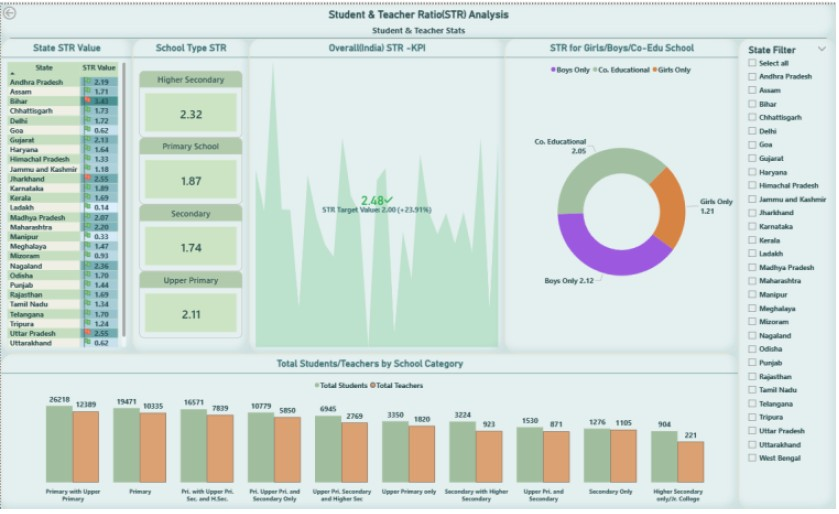

The dashboard page shown, as its layout file describes it:
{"tool":"powerbi","page":{"name":"Teacher & Student Ratio Analysis","canvas":[1900,1150],"ordinal":2},"visuals":[{"type":"kpi","title":"Overall(India) STR -KPI","fields":{"TrendLine":["Education_School_DataSet.State"],"Indicator":["Education_School_DataSet.Student Teacher Ratio"],"Goal":["Education_School_DataSet.STR Target"]},"box":[565,76.7,581.7,718.3],"z":0},{"type":"actionButton","box":[0,0,100,40],"z":1000},{"type":"cardVisual","title":"School Type STR","fields":{"Data":["Education_School_DataSet.Student Teacher Ratio"],"Rows":["Education_School_DataSet.School Type "]},"box":[300,76.7,265,718.3],"z":2000},{"type":"donutChart","title":"STR for Girls/Boys/Co-Edu School","fields":{"Category":["Education_School_DataSet.School Type"],"Y":["Education_School_DataSet.Student Teacher Ratio"]},"box":[1146.7,76.7,531.7,718.3],"z":3000},{"type":"pivotTable","title":"State STR Value","fields":{"Values":["Education_School_DataSet.Student Teacher Ratio"],"Rows":["Education_School_DataSet.State"]},"box":[0,76.7,300,718.3],"z":4000},{"type":"clusteredColumnChart","title":"Total Students/Teachers by School Category","fields":{"Y":["Education_School_DataSet.Total Students","Education_School_DataSet.Total Teachers"],"Category":["Education_School_DataSet.School Category"]},"box":[0,795,1678.3,355],"z":5000},{"type":"slicer","fields":{"Values":["Education_School_DataSet.State"]},"box":[1678.3,76.7,221.7,1073.3],"z":6000},{"type":"textbox","title":" Student & Teacher Ratio(STR) Analysis","box":[0,0,1900,80],"z":7000}]}

Visuals, with their boxes in screenshot pixels (x1, y1, x2, y2), scaled from the page's 1900x1150 canvas onto the 839x514 screenshot:
"Overall(India) STR -KPI" kpi: 249, 34, 506, 355
actionButton: 0, 0, 44, 18
"School Type STR" cardVisual: 132, 34, 249, 355
"STR for Girls/Boys/Co-Edu School" donutChart: 506, 34, 741, 355
"State STR Value" pivotTable: 0, 34, 132, 355
"Total Students/Teachers by School Category" clusteredColumnChart: 0, 355, 741, 513
slicer - Education_School_DataSet.State: 741, 34, 838, 513
" Student & Teacher Ratio(STR) Analysis" textbox: 0, 0, 838, 36
